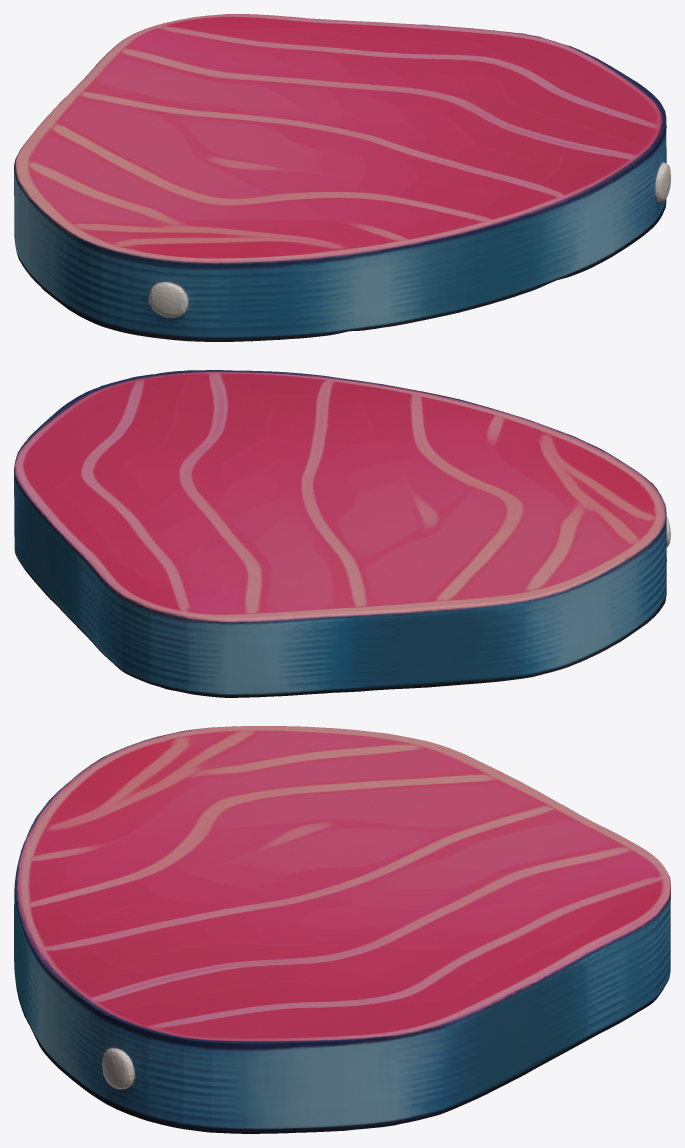
The model's file is tuna.glb.
3 renders of one model, top to bottom at view 1: azimuth 30°, elevation 25°; view 2: azimuth 150°, elevation 25°; view 3: azimuth 270°, elevation 25°, orthographic. The views are drawn at different scales.
Visible parts, largest first — view 1: world; view 2: world; view 3: world.
Part boxes in pixels (x1,y1,x2,y2): world: (14,14,670,341); world: (14,370,670,697); world: (14,726,670,1133).
Bounding box in the file's own units: 0.9996 × 0.1335 × 0.8707.
Materials: 1 (1 with a texture image).
